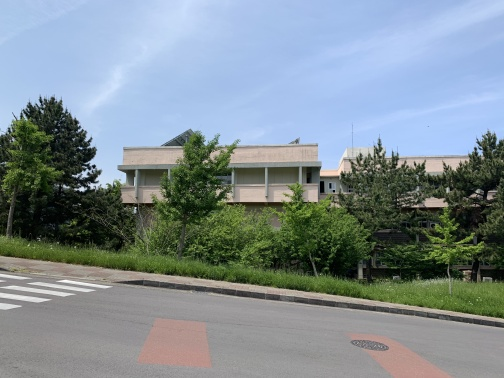College Of Education: (115, 128, 501, 255)
